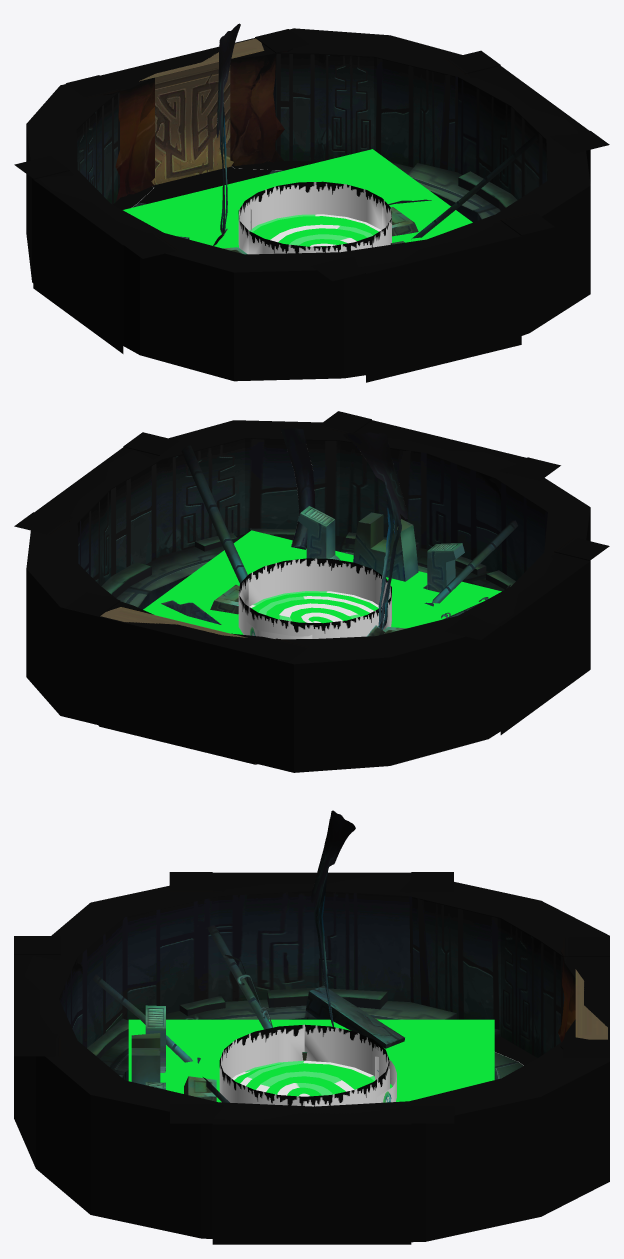
Rendered from Dungeon_052_WarpRoom_010.fbx.
3 renders of one model, top to bottom at view 1: azimuth 30°, elevation 25°; view 2: azimuth 150°, elevation 25°; view 3: azimuth 270°, elevation 25°, orthographic. The views are drawn at different scales.
Parts seen in each view (by area): view 1: Dun_011_WarpRoom_002_wall, Dun_011_Door_002 (×4), EF_Dun_Portal_WarpRoom, Dun_011_Door_002_old, Dun_011_Door_003_WarpRoom, EF_Dun_Portal_WarpRoom5, Dun_011_WarpRoom_002_object01, Dun_011_WarpRoom_002_ground, Dun_011_Door_002_shadow, EF_Dun_Portal_WarpRoom6, Dun_011_WarpRoom_001_shadow; view 2: Dun_011_WarpRoom_002_wall, Dun_011_Door_002 (×4), Dun_011_Door_002_old, Dun_011_WarpRoom_002_object01, EF_Dun_Portal_WarpRoom, EF_Dun_Portal_WarpRoom5, Dun_011_WarpRoom_002_ground, EF_Dun_Portal_WarpRoom6, Dun_011_Door_003_WarpRoom; view 3: Dun_011_WarpRoom_002_wall, Dun_011_Door_002 (×4), EF_Dun_Portal_WarpRoom, Dun_011_WarpRoom_002_object01, EF_Dun_Portal_WarpRoom5, Dun_011_WarpRoom_002_ground, Dun_011_Door_002_old, EF_Dun_Portal_WarpRoom6, Dun_011_Door_003_WarpRoom, Dun_011_WarpRoom_001_shadow.
Part boxes in pixels (x1,y1,x2,y2): Dun_011_WarpRoom_002_wall: [26, 28, 590, 381]; Dun_011_Door_002 (×4): [14, 37, 609, 382]; EF_Dun_Portal_WarpRoom: [123, 149, 472, 248]; Dun_011_Door_002_old: [66, 29, 308, 196]; Dun_011_Door_003_WarpRoom: [139, 38, 264, 185]; EF_Dun_Portal_WarpRoom5: [238, 181, 391, 254]; Dun_011_WarpRoom_002_object01: [178, 23, 537, 254]; Dun_011_WarpRoom_002_ground: [132, 162, 517, 222]; Dun_011_Door_002_shadow: [139, 166, 271, 203]; EF_Dun_Portal_WarpRoom6: [249, 214, 381, 246]; Dun_011_WarpRoom_001_shadow: [113, 161, 320, 209]; Dun_011_WarpRoom_002_wall: [26, 420, 590, 772]; Dun_011_Door_002 (×4): [14, 411, 609, 764]; Dun_011_Door_002_old: [66, 592, 309, 763]; Dun_011_WarpRoom_002_object01: [161, 428, 517, 763]; EF_Dun_Portal_WarpRoom: [143, 530, 501, 634]; EF_Dun_Portal_WarpRoom5: [238, 558, 391, 638]; Dun_011_WarpRoom_002_ground: [98, 528, 515, 764]; EF_Dun_Portal_WarpRoom6: [249, 591, 378, 622]; Dun_011_Door_003_WarpRoom: [100, 607, 247, 637]; Dun_011_WarpRoom_002_wall: [14, 874, 609, 1242]; Dun_011_Door_002 (×4): [14, 872, 609, 1244]; EF_Dun_Portal_WarpRoom: [128, 1019, 494, 1102]; Dun_011_WarpRoom_002_object01: [92, 810, 404, 1102]; EF_Dun_Portal_WarpRoom5: [219, 1024, 389, 1106]; Dun_011_WarpRoom_002_ground: [87, 987, 523, 1080]; Dun_011_Door_002_old: [560, 937, 609, 1057]; EF_Dun_Portal_WarpRoom6: [232, 1060, 375, 1096]; Dun_011_Door_003_WarpRoom: [575, 969, 607, 1039]; Dun_011_WarpRoom_001_shadow: [494, 1036, 537, 1065].
Size of what is drawn, in the model's own units: 9 by 4.63 by 9.
